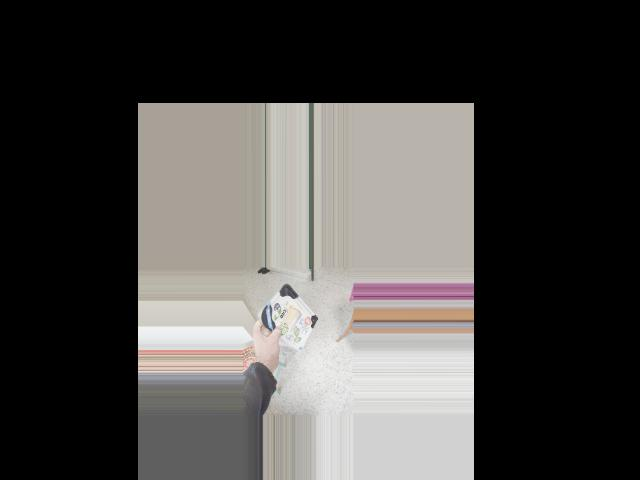cheese: (244, 293, 321, 341)
